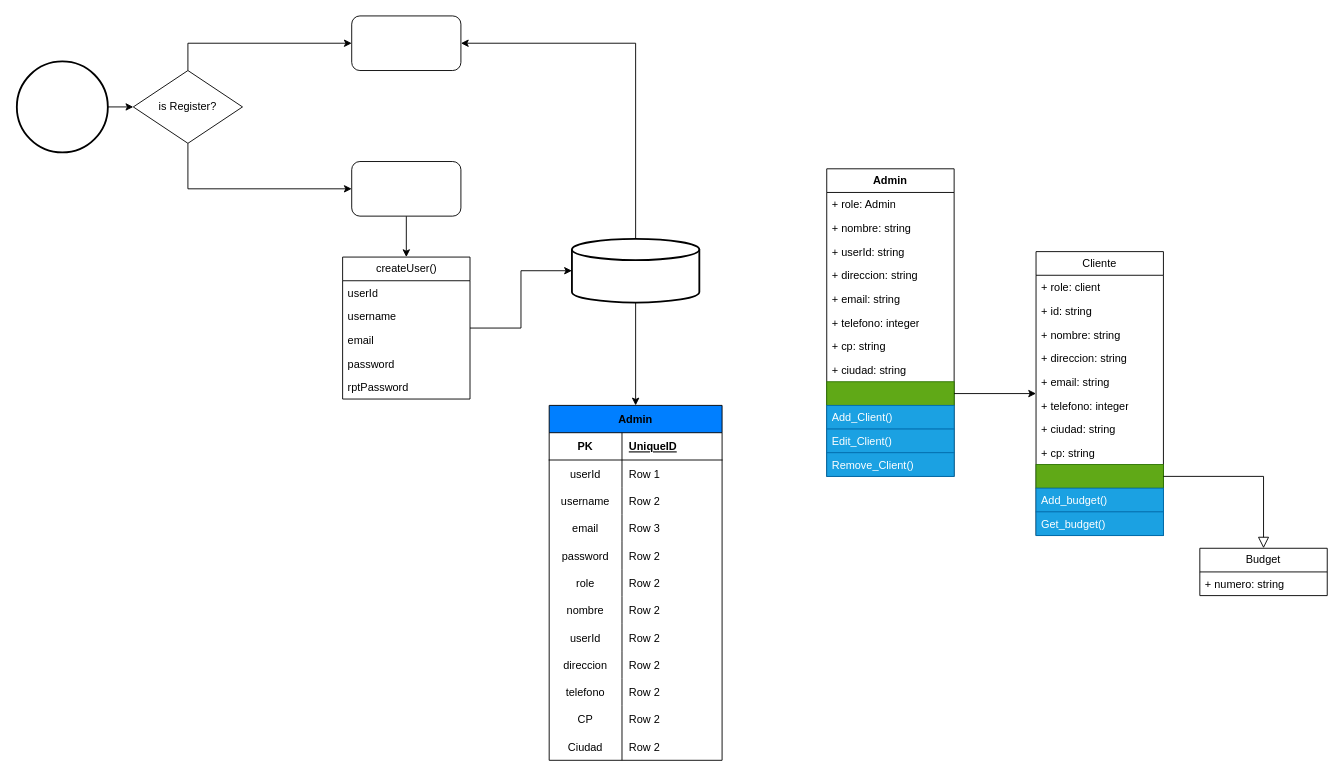
Some shapes in this 1343 by 776 pixel diagram are drawn without their labels. Here are the shapes that lost their labels. From the top down, the centre of each, then its label:
At [406,43]: "Login".
At [61,106]: "Start".
At [406,188]: "Create User".
At [635,270]: "users".
At [890,393]: "+ clientes: array".
At [1099,476]: "+ budgets: array".
